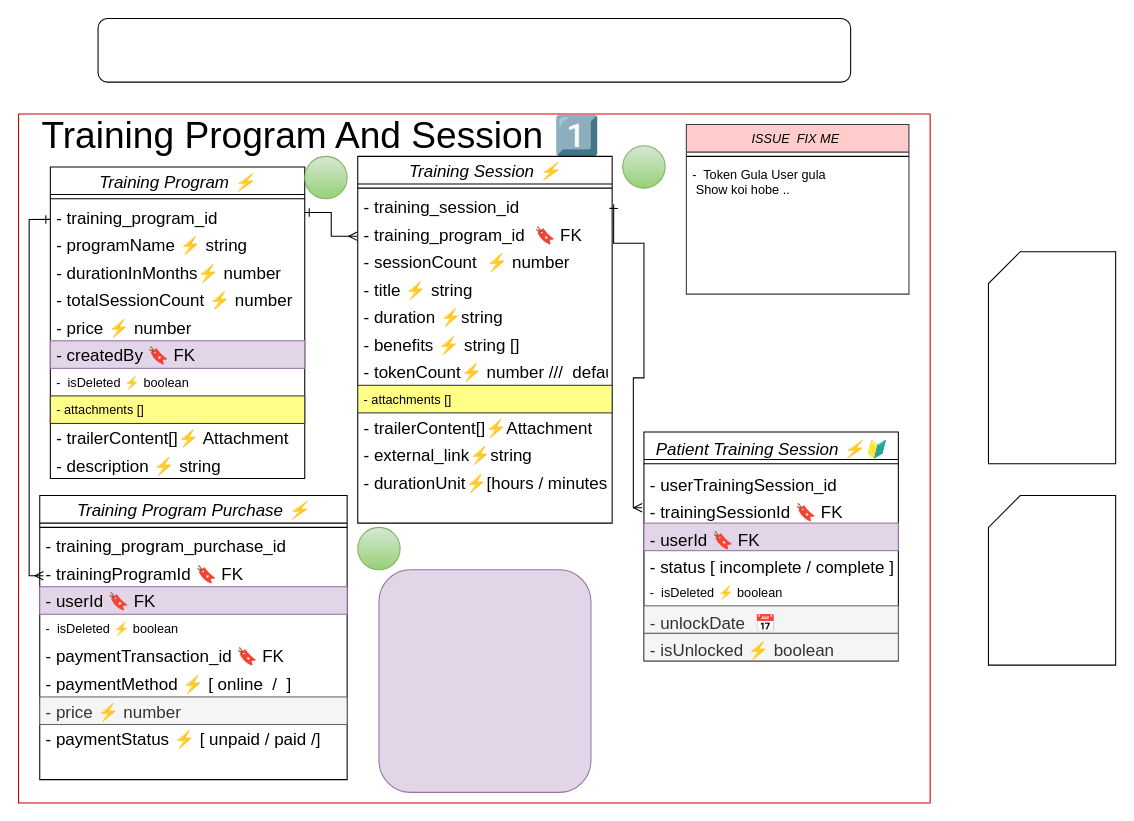
Some shapes in this 1134 by 821 pixel diagram are drawn without their labels. Here are the shapes that lost their labels. From the top down, the centre of each, then its label:
At point 474,49: "Last Updated at 2 / 08 / 2025".
At point 1051,357: "training session e creator er Id reference hishebe rakhbo kina chinta korte hobe".
At point 1051,579: "user je ekta token paise .. shetar track rakhte hobe".
At point 484,680: "Ek ekta session 1 week por por unlock hobe ..".
